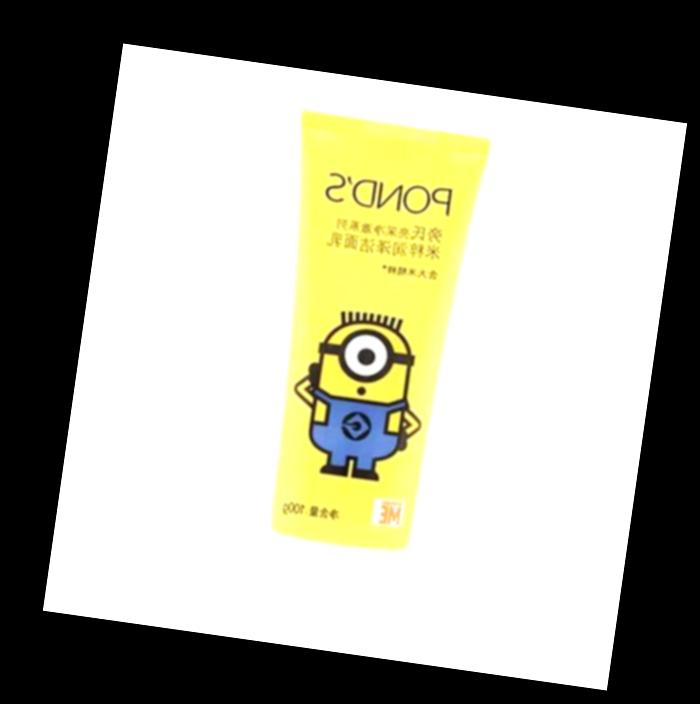cosmetic: (225, 110, 496, 640)
